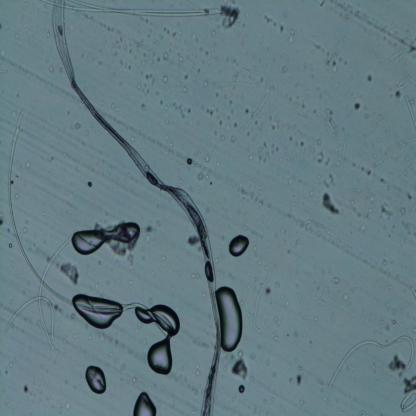Air bubble: (136, 304, 183, 376), (72, 218, 143, 256), (72, 294, 125, 332), (220, 285, 244, 354), (86, 366, 110, 394), (228, 231, 250, 258), (236, 383, 248, 396)
Background material: (328, 0, 366, 24), (254, 137, 281, 163), (130, 390, 158, 415), (319, 191, 342, 216), (220, 5, 246, 27), (240, 185, 264, 208), (59, 260, 80, 285), (168, 98, 192, 118), (230, 357, 249, 380), (108, 34, 126, 56), (186, 233, 202, 256), (141, 71, 156, 94), (389, 354, 406, 374), (223, 51, 242, 66), (98, 334, 120, 346), (379, 204, 394, 221), (260, 13, 277, 28), (321, 170, 335, 188), (314, 151, 330, 166), (144, 221, 155, 240), (308, 40, 322, 54), (402, 219, 413, 236), (102, 21, 116, 34), (283, 209, 295, 224), (286, 25, 296, 40), (195, 169, 205, 182), (0, 62, 10, 75), (185, 154, 195, 167), (276, 21, 285, 35), (295, 373, 304, 387), (326, 57, 338, 67), (72, 119, 82, 131), (21, 381, 29, 396), (366, 72, 376, 84), (203, 170, 211, 184), (52, 304, 63, 314), (188, 271, 198, 282), (204, 106, 215, 116), (330, 274, 340, 285), (366, 192, 375, 204), (361, 166, 373, 175), (352, 206, 361, 218), (242, 104, 250, 116), (0, 210, 5, 229), (8, 256, 15, 269), (215, 117, 225, 126), (192, 34, 201, 44), (264, 113, 274, 122), (140, 101, 149, 111), (406, 191, 414, 202), (320, 396, 331, 404), (278, 65, 288, 73), (268, 122, 276, 132), (140, 16, 150, 24), (236, 348, 244, 358), (272, 316, 279, 327), (162, 74, 171, 82), (228, 109, 234, 121), (142, 50, 148, 62), (250, 351, 258, 360), (163, 26, 171, 35), (8, 240, 15, 250), (13, 190, 20, 200), (288, 177, 298, 184), (363, 110, 370, 120), (349, 198, 357, 206), (46, 66, 54, 74), (63, 401, 71, 409), (307, 189, 315, 197), (265, 287, 273, 295), (272, 334, 280, 342), (381, 259, 388, 268), (354, 102, 361, 111), (232, 132, 238, 142), (204, 154, 210, 164), (182, 72, 190, 79), (86, 181, 94, 188), (384, 324, 391, 332), (401, 205, 406, 216), (212, 29, 218, 38), (357, 410, 366, 416), (24, 160, 30, 169), (363, 213, 370, 220), (284, 154, 290, 162), (118, 58, 124, 66), (14, 32, 20, 40), (381, 176, 387, 184), (134, 40, 140, 48), (287, 134, 293, 142), (275, 280, 281, 288), (298, 362, 304, 370), (22, 225, 27, 234), (127, 63, 132, 72), (163, 51, 169, 58), (156, 54, 161, 62), (248, 154, 253, 162), (257, 259, 262, 267), (343, 58, 348, 66), (204, 50, 210, 56), (202, 82, 208, 88), (298, 140, 304, 146), (158, 99, 164, 105), (196, 67, 202, 73), (10, 179, 15, 186), (308, 341, 313, 348), (320, 0, 324, 8), (172, 31, 177, 37), (264, 266, 270, 271), (156, 90, 160, 97), (147, 32, 151, 39), (182, 86, 186, 93), (216, 161, 220, 168), (358, 150, 362, 157), (231, 98, 234, 107), (128, 49, 133, 54), (136, 85, 141, 90), (201, 58, 206, 63), (180, 56, 184, 62), (380, 318, 384, 324), (392, 318, 396, 324), (294, 332, 298, 337), (314, 317, 318, 321), (388, 233, 391, 238)
Cotton: (52, 1, 219, 416)
Glass filter fibre: (10, 111, 178, 340), (326, 334, 416, 392), (35, 230, 75, 352), (48, 0, 225, 17), (3, 293, 59, 343), (235, 65, 272, 135), (298, 218, 356, 252), (251, 262, 274, 339), (374, 99, 397, 152), (336, 124, 350, 197), (288, 99, 317, 128), (386, 42, 416, 66), (216, 76, 275, 88), (322, 108, 339, 139), (397, 389, 416, 414), (404, 95, 416, 133), (397, 70, 416, 92), (297, 145, 307, 170)
